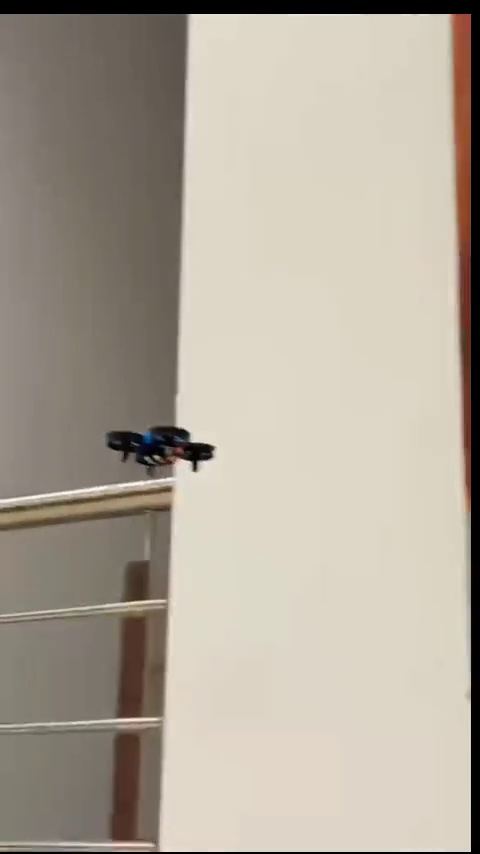drone: (105, 425, 215, 478)
